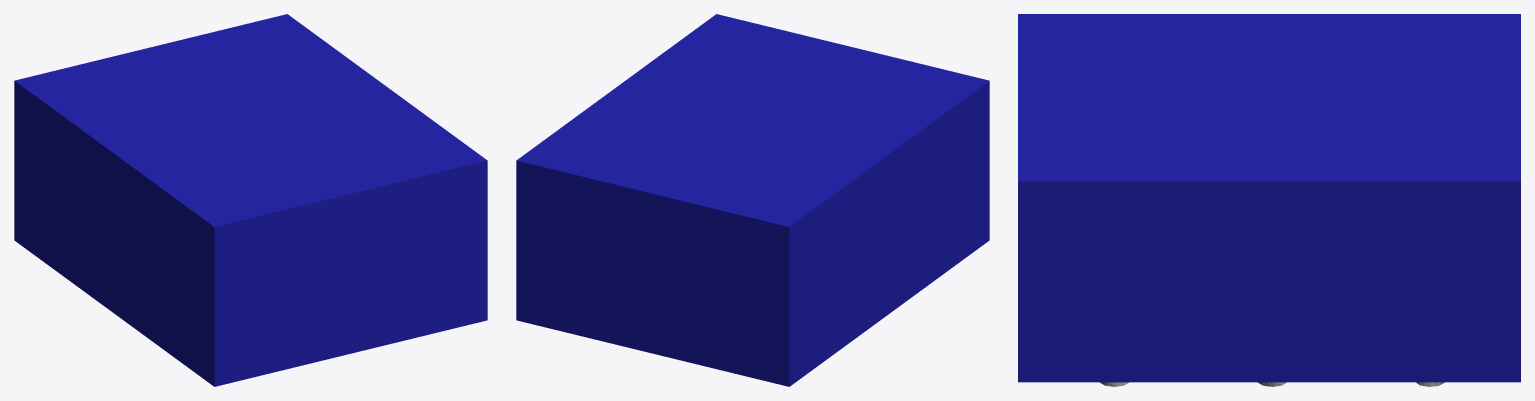
The model's file is coveredstructure.DAE.
3 views of the same model, side by side, from view 1: azimuth 30°, elevation 25°; view 2: azimuth 150°, elevation 25°; view 3: azimuth 270°, elevation 25° (orthographic). The views are drawn at different scales.
Parts seen in each view (by area): view 1: bounds; view 2: bounds; view 3: bounds.
Boxes of the visible parts, x1,y1,x2,y2 form: bounds: [14, 14, 487, 386]; bounds: [516, 14, 989, 386]; bounds: [1018, 14, 1520, 382].
Size of the model in its own units: 10.36 by 13.15 by 6.35.
